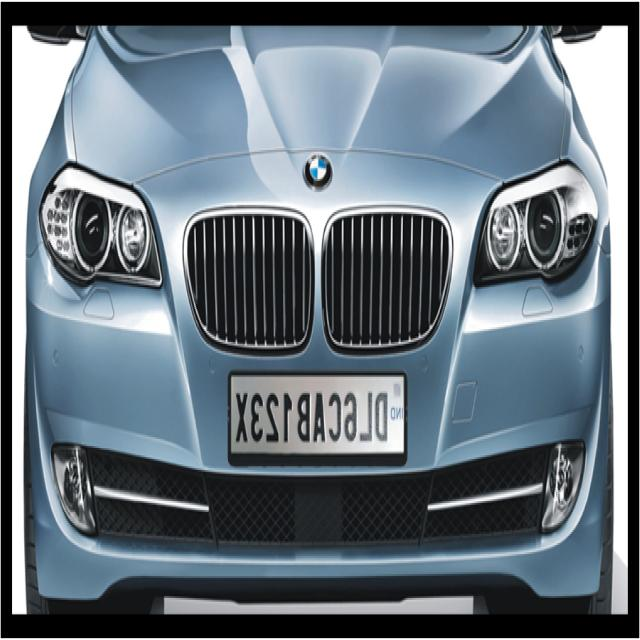number-plate: (219, 360, 413, 484)
